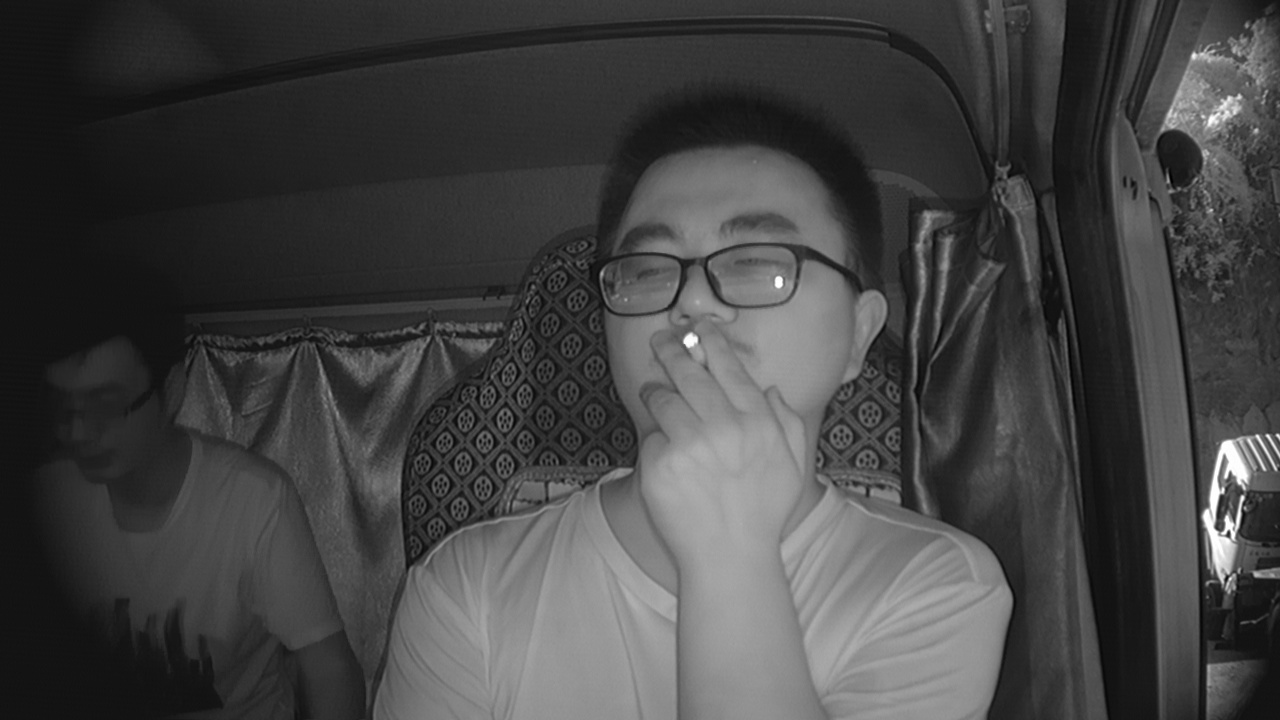hand: (625, 326, 800, 540)
